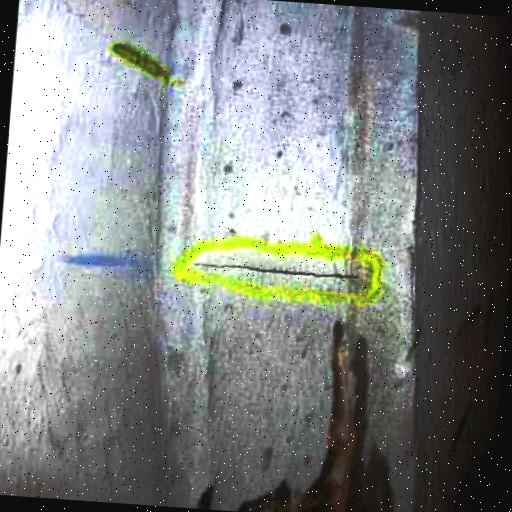crack: (195, 264, 357, 279)
